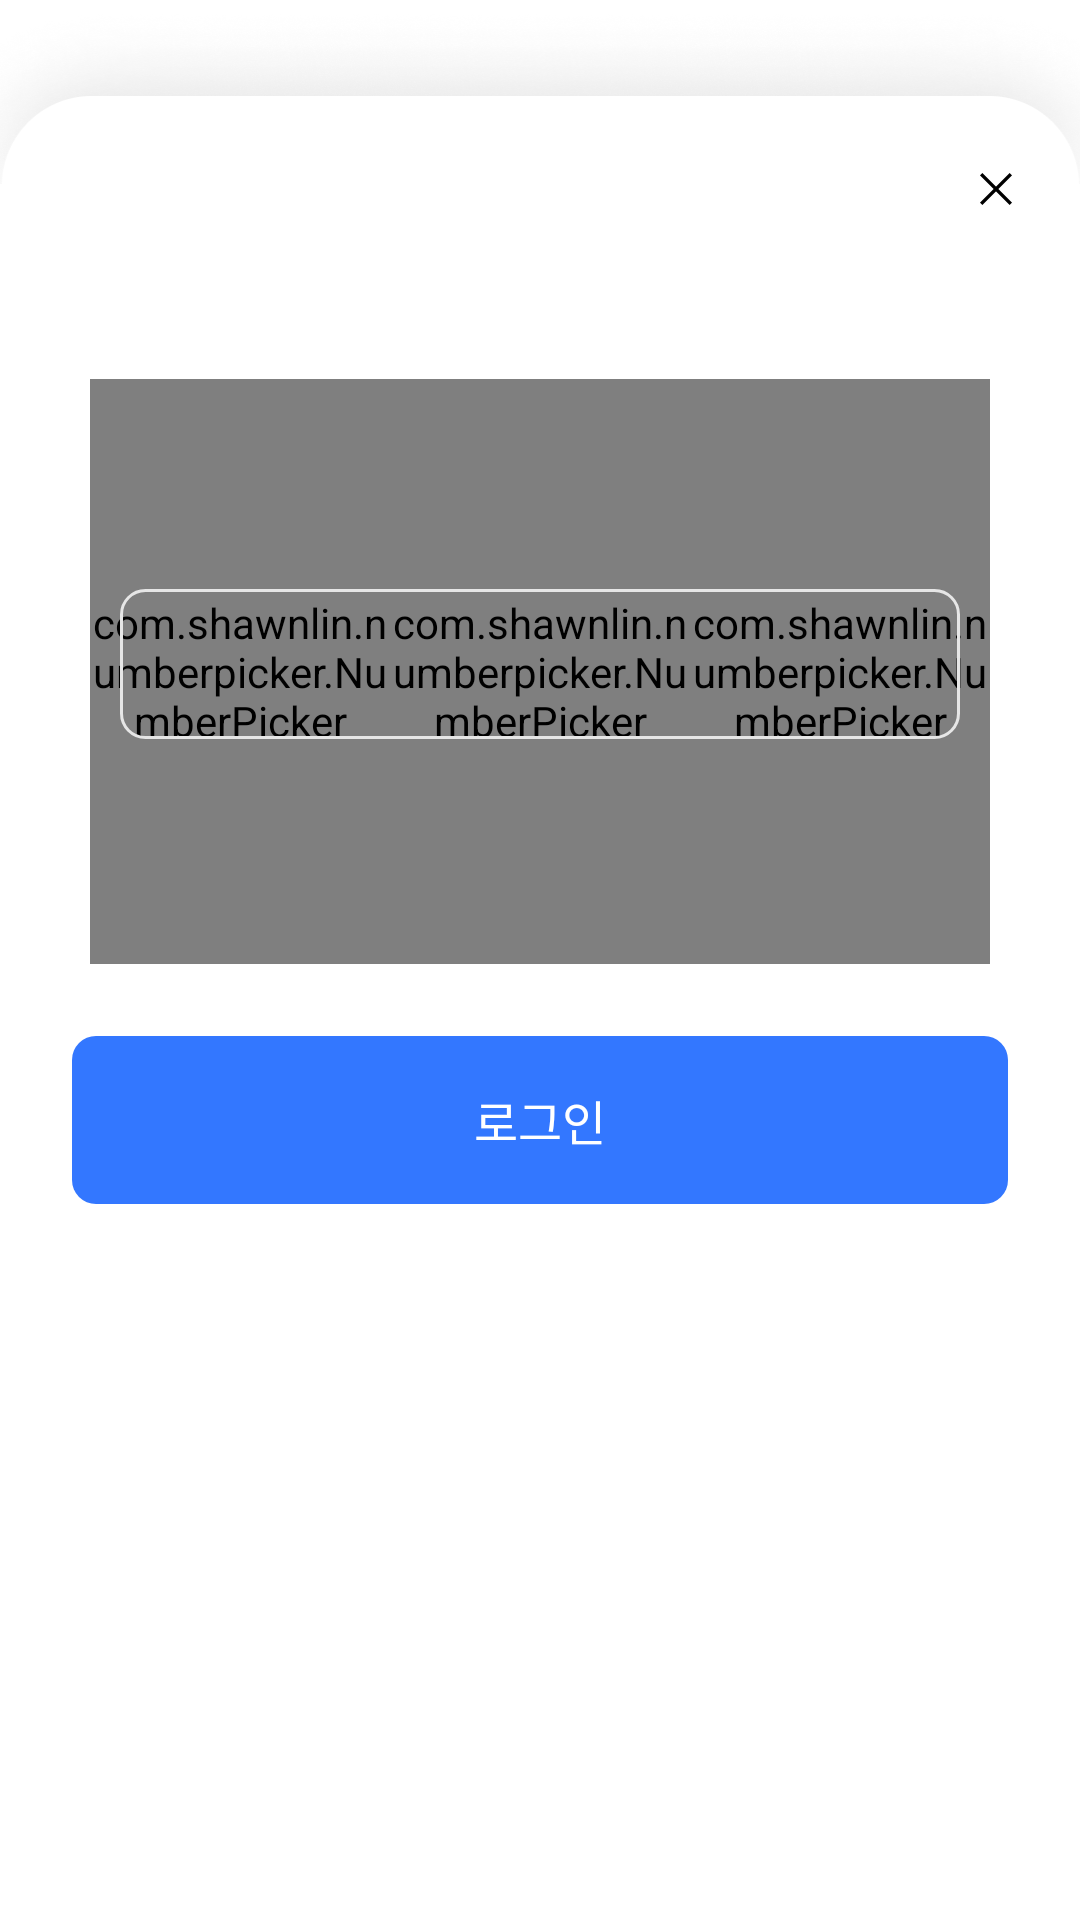

Where icons sit on this 1080×1920 app screen, as (x1, y1, x2, y2):
close: (980, 173, 1012, 205)
